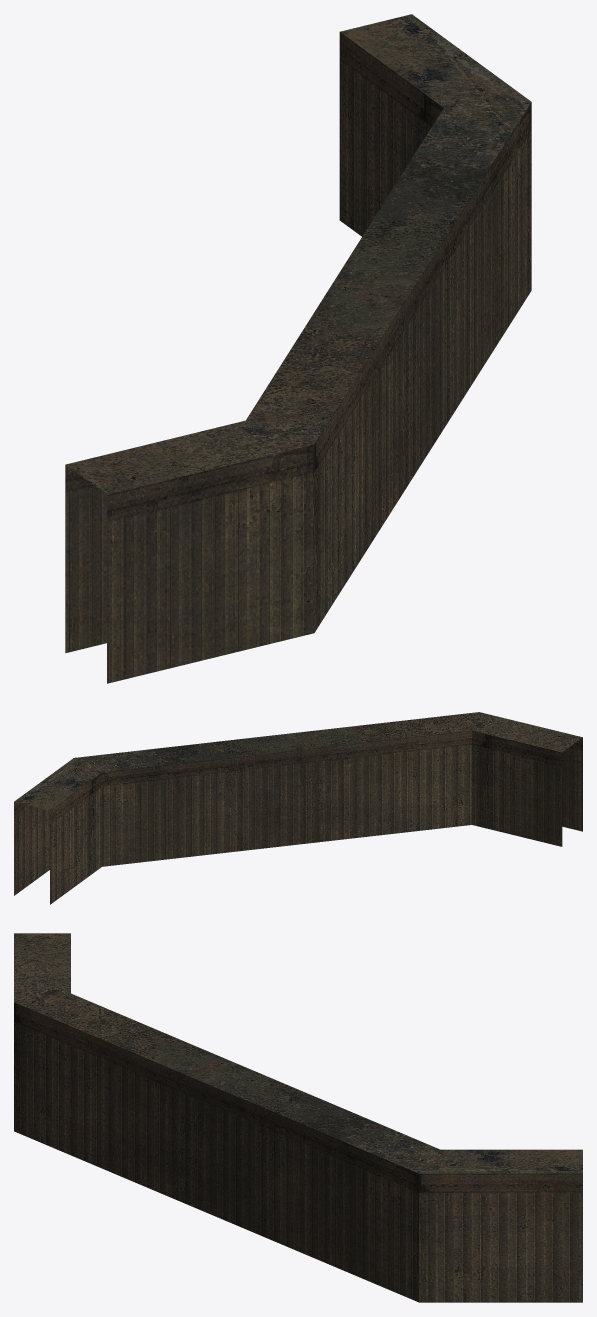
The model's file is wall_rx_1_m1a_1_1_3_height.glb.
The picture shows the model from 3 angles, top to bottom: view 1: azimuth 30°, elevation 25°; view 2: azimuth 150°, elevation 25°; view 3: azimuth 270°, elevation 25°; orthographic projection. The views are drawn at different scales.
Visible parts, largest first — view 1: wall_rx_1_m1a_1_1/3_height; view 2: wall_rx_1_m1a_1_1/3_height; view 3: wall_rx_1_m1a_1_1/3_height.
Part boxes in pixels (x1,y1,x2,y2): wall_rx_1_m1a_1_1/3_height: [65, 14, 531, 683]; wall_rx_1_m1a_1_1/3_height: [14, 712, 582, 904]; wall_rx_1_m1a_1_1/3_height: [14, 933, 582, 1302].
Bounding box in the file's own units: 4 × 1 × 4.
2 materials, 2 textured.
